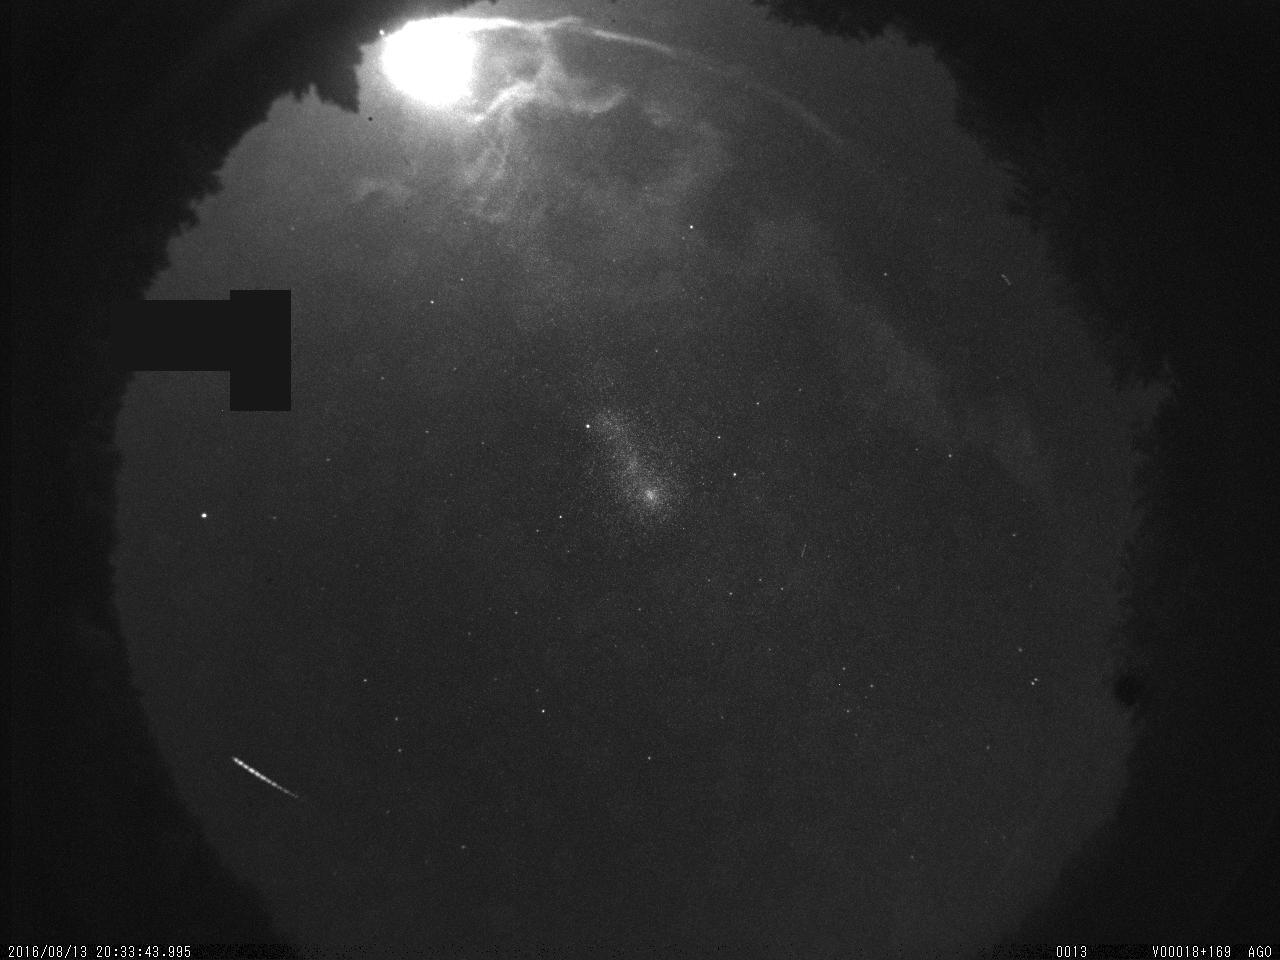meteor: (219, 750, 329, 818)
